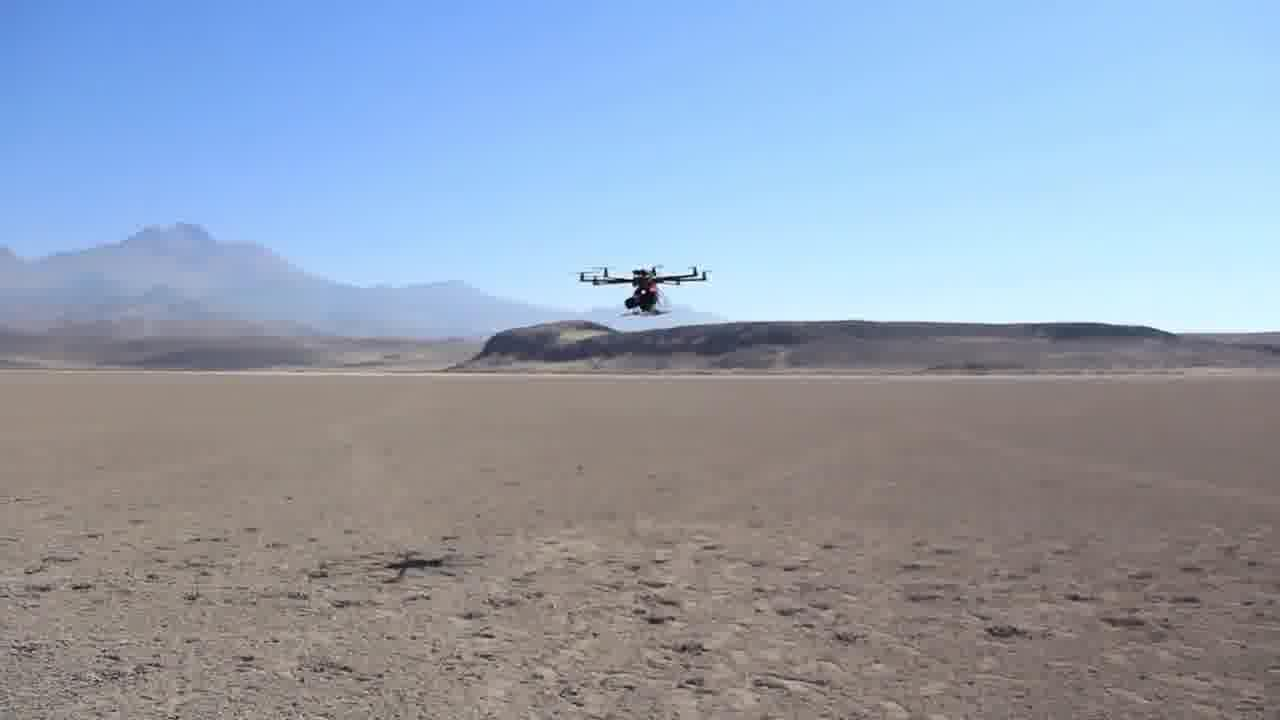drone: (568, 242, 711, 318)
